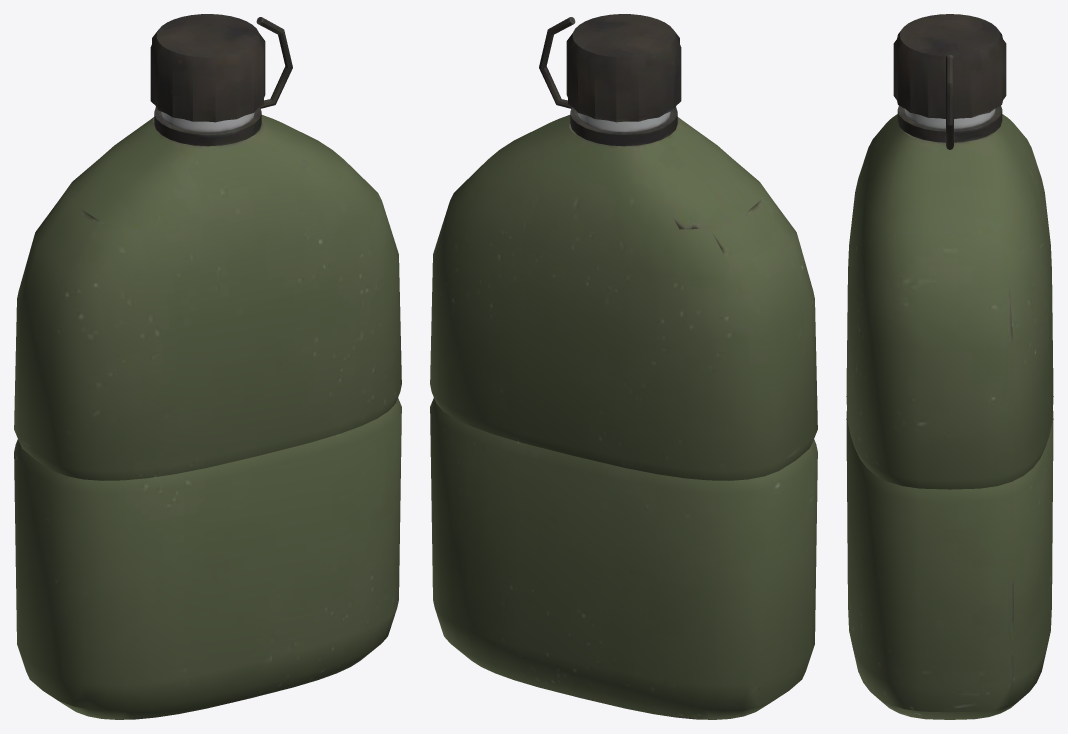
File: cantil.glb
3 views of the same model, side by side, from view 1: azimuth 30°, elevation 25°; view 2: azimuth 150°, elevation 25°; view 3: azimuth 270°, elevation 25° (orthographic). The views are drawn at different scales.
Visible parts, largest first — view 1: corpo, tampa; view 2: corpo, tampa; view 3: corpo, tampa.
Boxes of the visible parts, x1=… form: corpo: x1=14, y1=17, x2=401, y2=719; tampa: x1=150, y1=14, x2=265, y2=122; corpo: x1=430, y1=17, x2=817, y2=719; tampa: x1=566, y1=14, x2=681, y2=122; corpo: x1=846, y1=55, x2=1053, y2=719; tampa: x1=893, y1=14, x2=1006, y2=118.
Size of the model in its own units: 0.13 by 0.227 by 0.068.
1 material, 1 textured.
